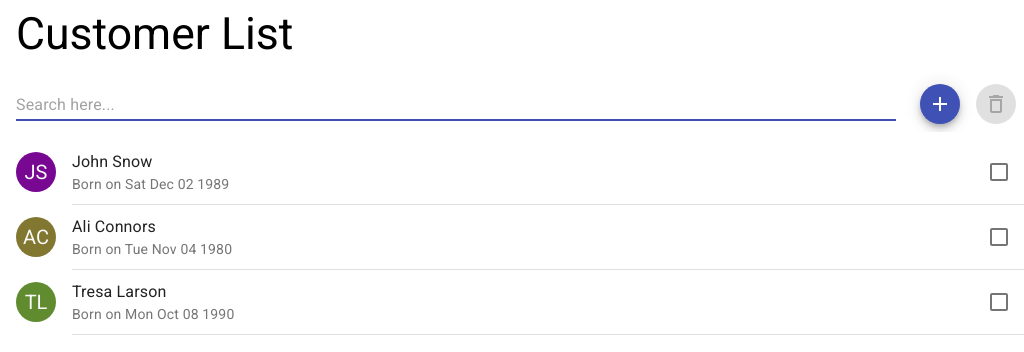
Test: CustomerList › deletes selected customers
Click the 1st checkbox: (999, 172) [987, 160, 1011, 184]
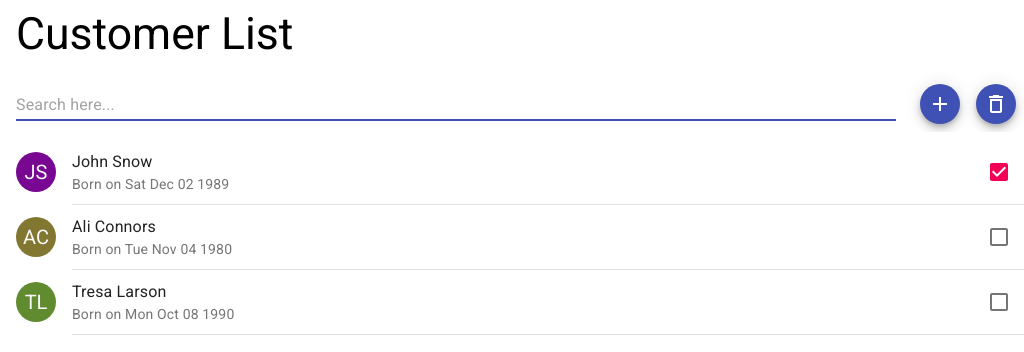
Expected: the 1st checkbox is checked, [987, 160, 1011, 184]
Expected: the button with test id "deleteCustomerBtn" is enabled
Click the button with test id "deleteCustomerBtn": (996, 104) [976, 84, 1016, 124]
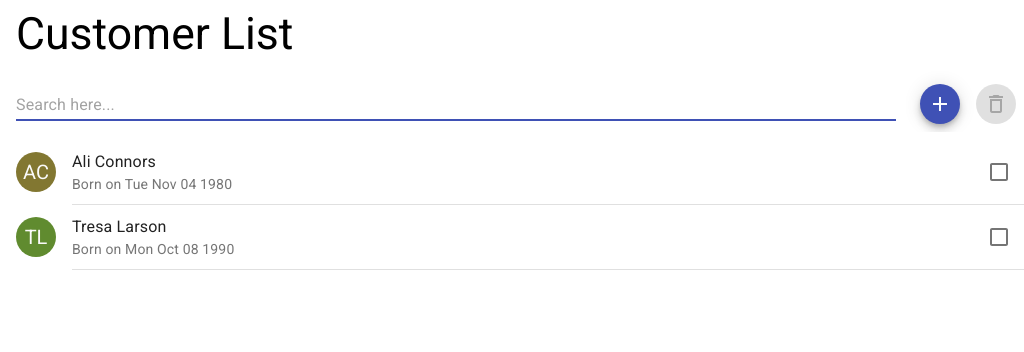
Expected: the element with test id "customerId-1" is gone
